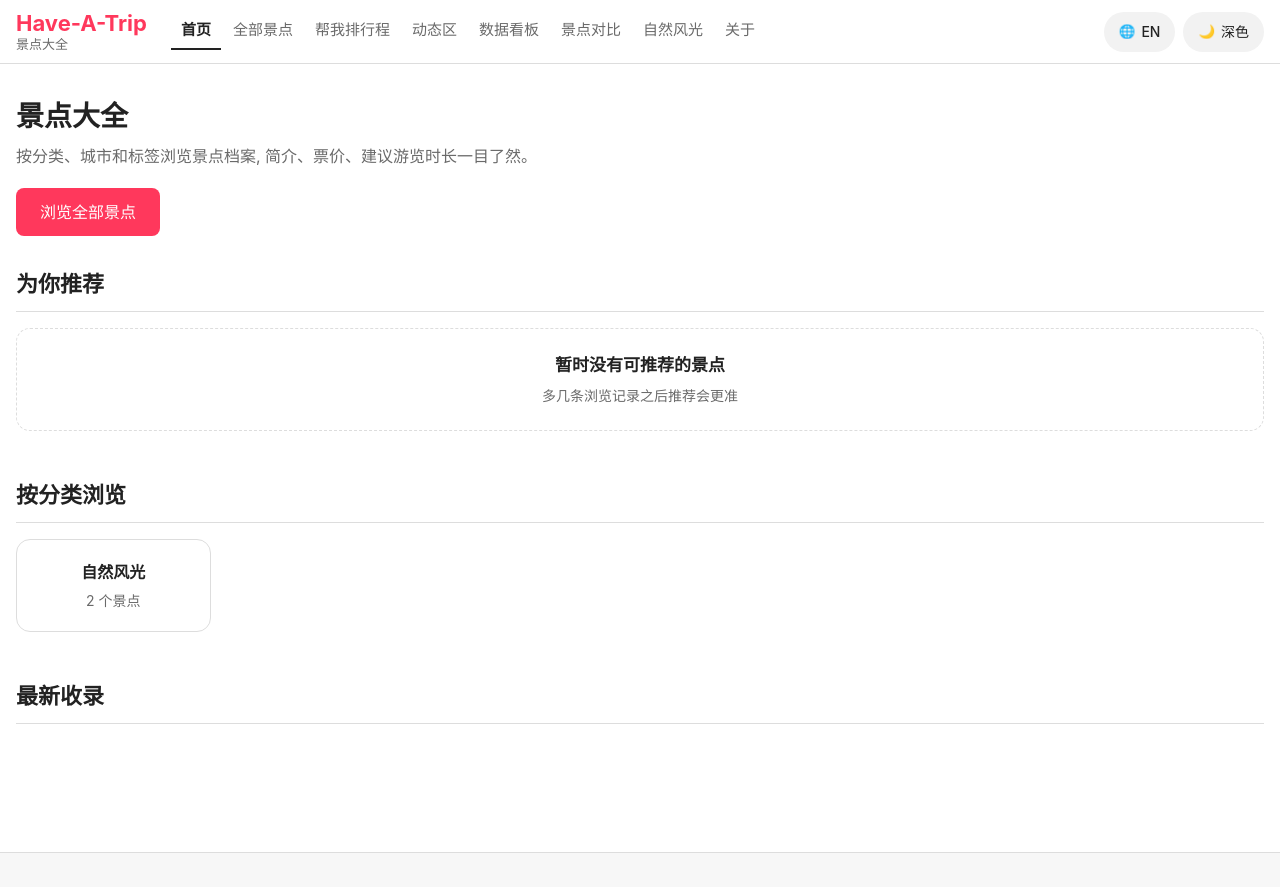
Test: App › 点页头右上角的按钮就能切换中英双语
This screenshot has width=1280, height=887.
expect the link "全部景点" is shown: met, box [233,20,293,39]
Click the button with aria-label "切换到英文": {"x": 1140, "y": 32} [1104,12,1175,52]
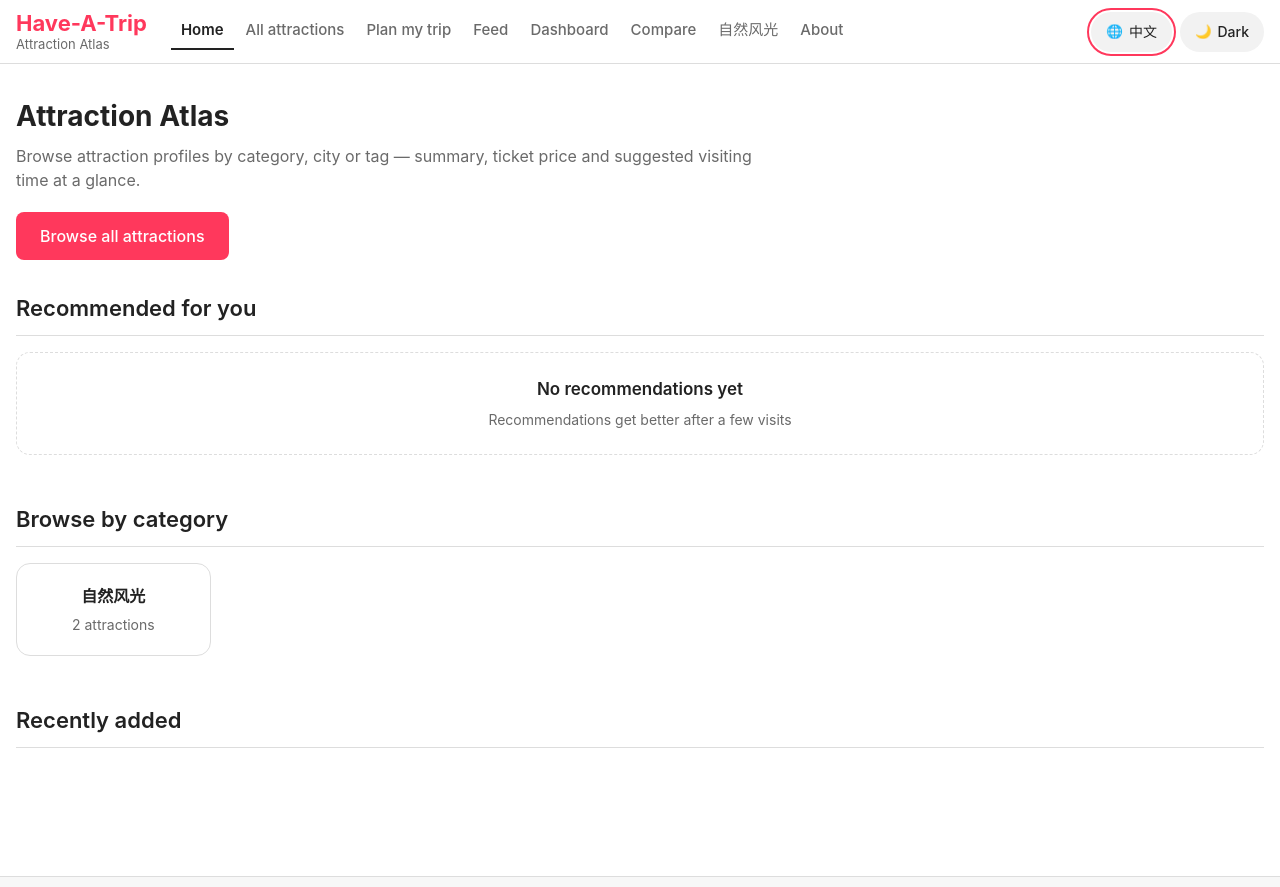
expect the link "自然风光" is shown: met, box [718,20,778,39]
expect the link "All attractions" is shown: met, box [246,20,344,39]
expect the link "Home" is shown: met, box [171,13,234,50]
再点一次切回中文, 按钮上写的是目标语言的名字
Click the button with aria-label "切换到中文": {"x": 1132, "y": 32} [1091,12,1172,52]
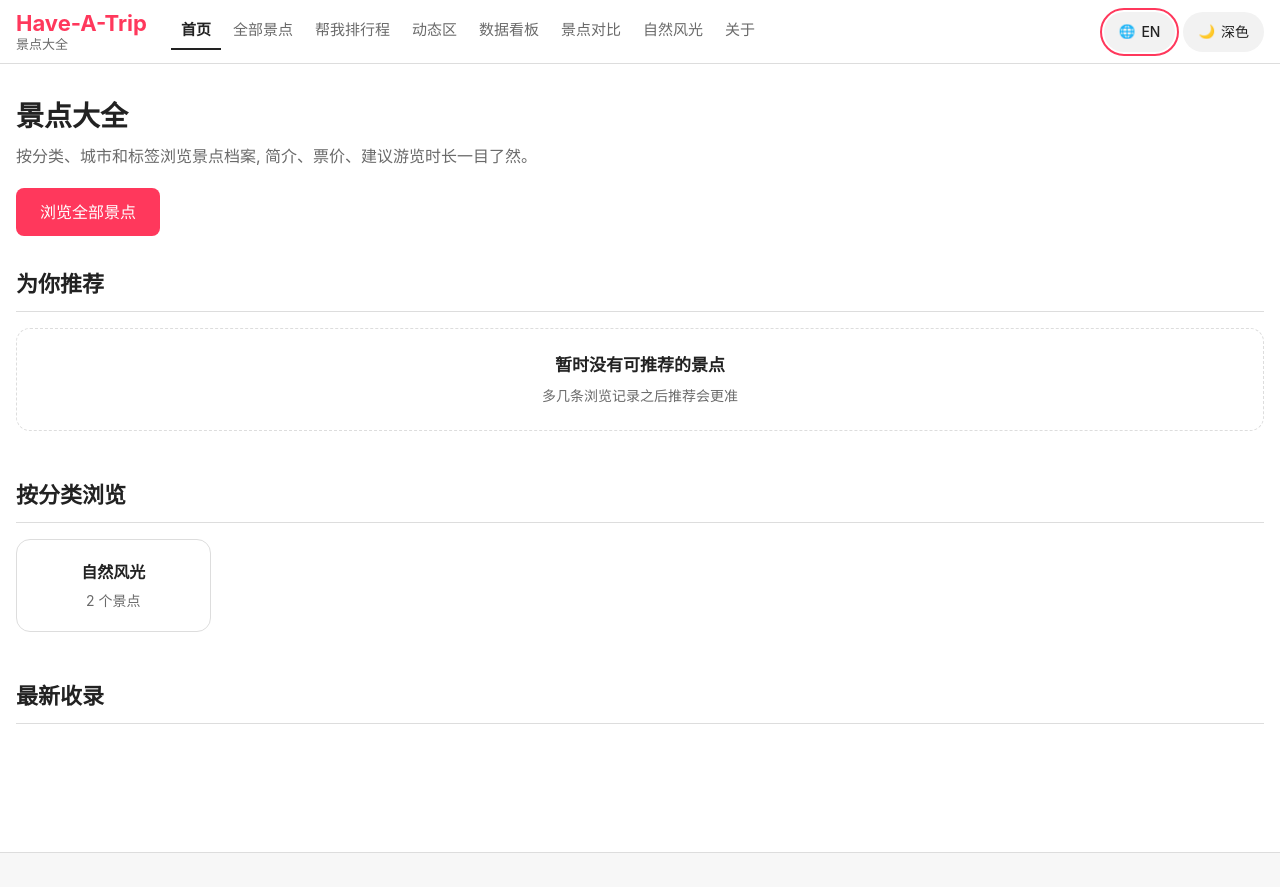
expect the link "全部景点" is shown: met, box [233,20,293,39]
